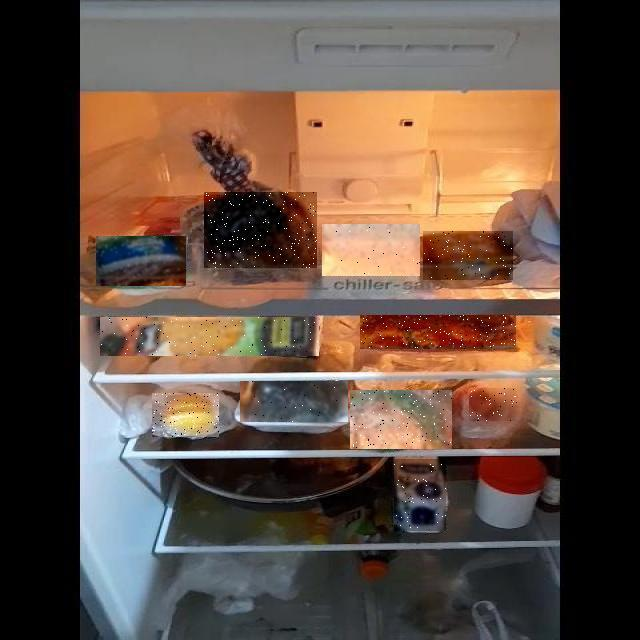broccoli: (66, 211, 414, 633)
carrot: (102, 174, 618, 524)
cheese: (112, 138, 534, 414)
milk: (171, 266, 617, 640)
